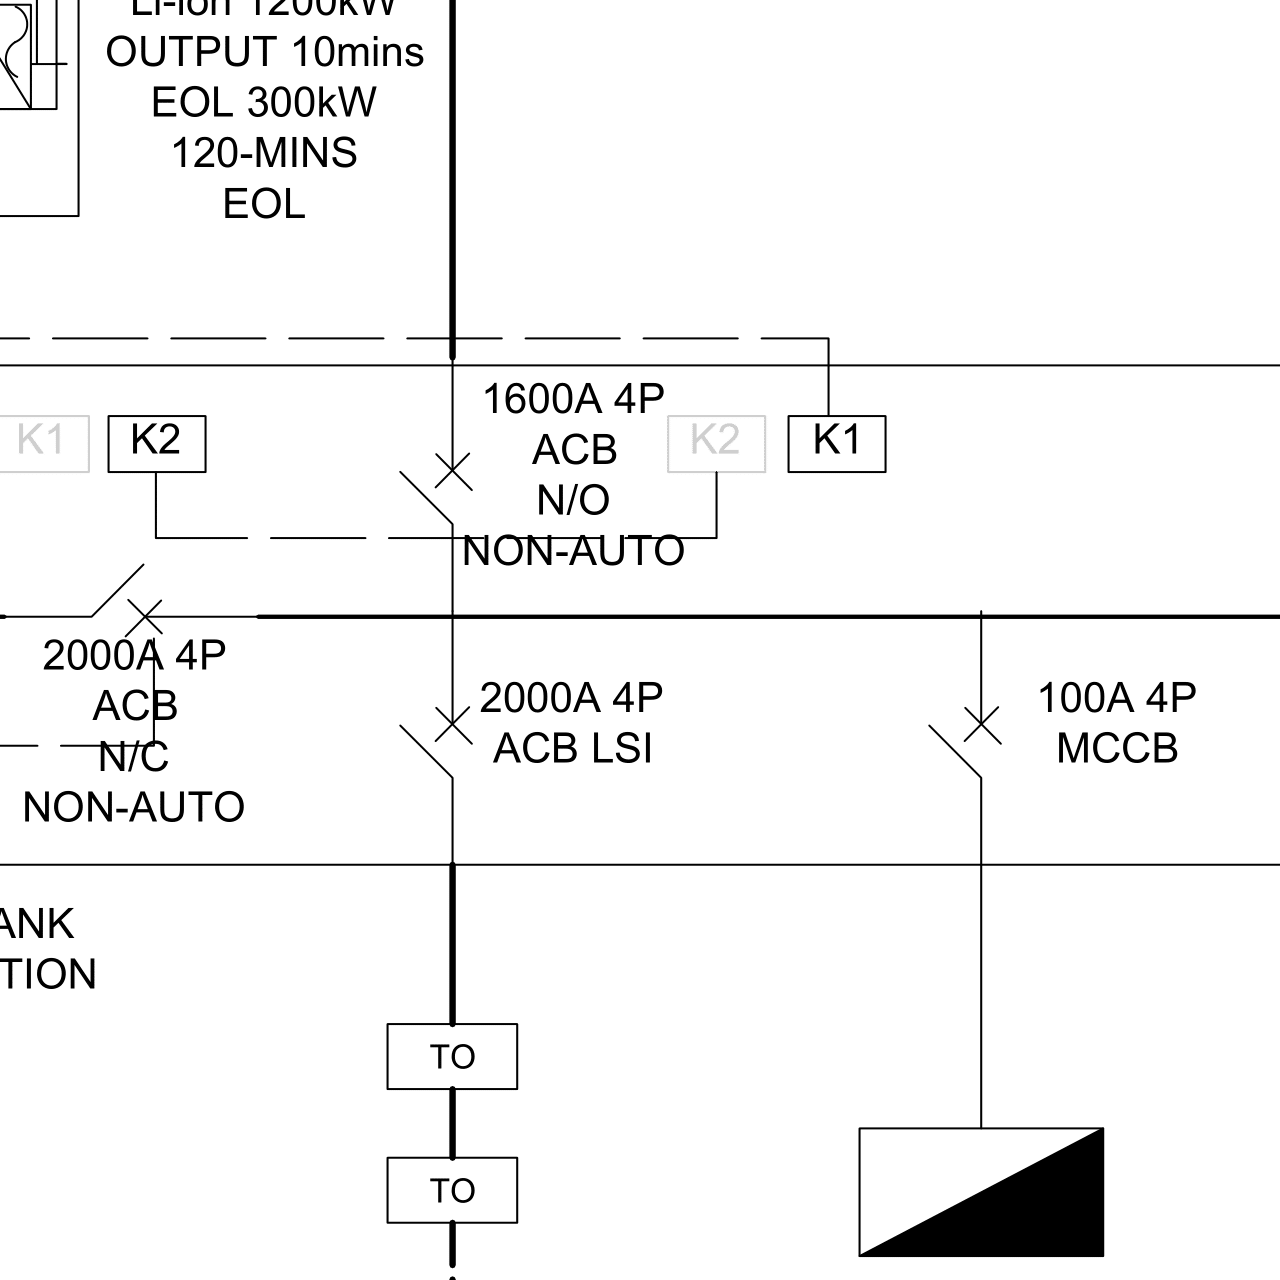Distribution Board: (833, 1107, 1128, 1278)
